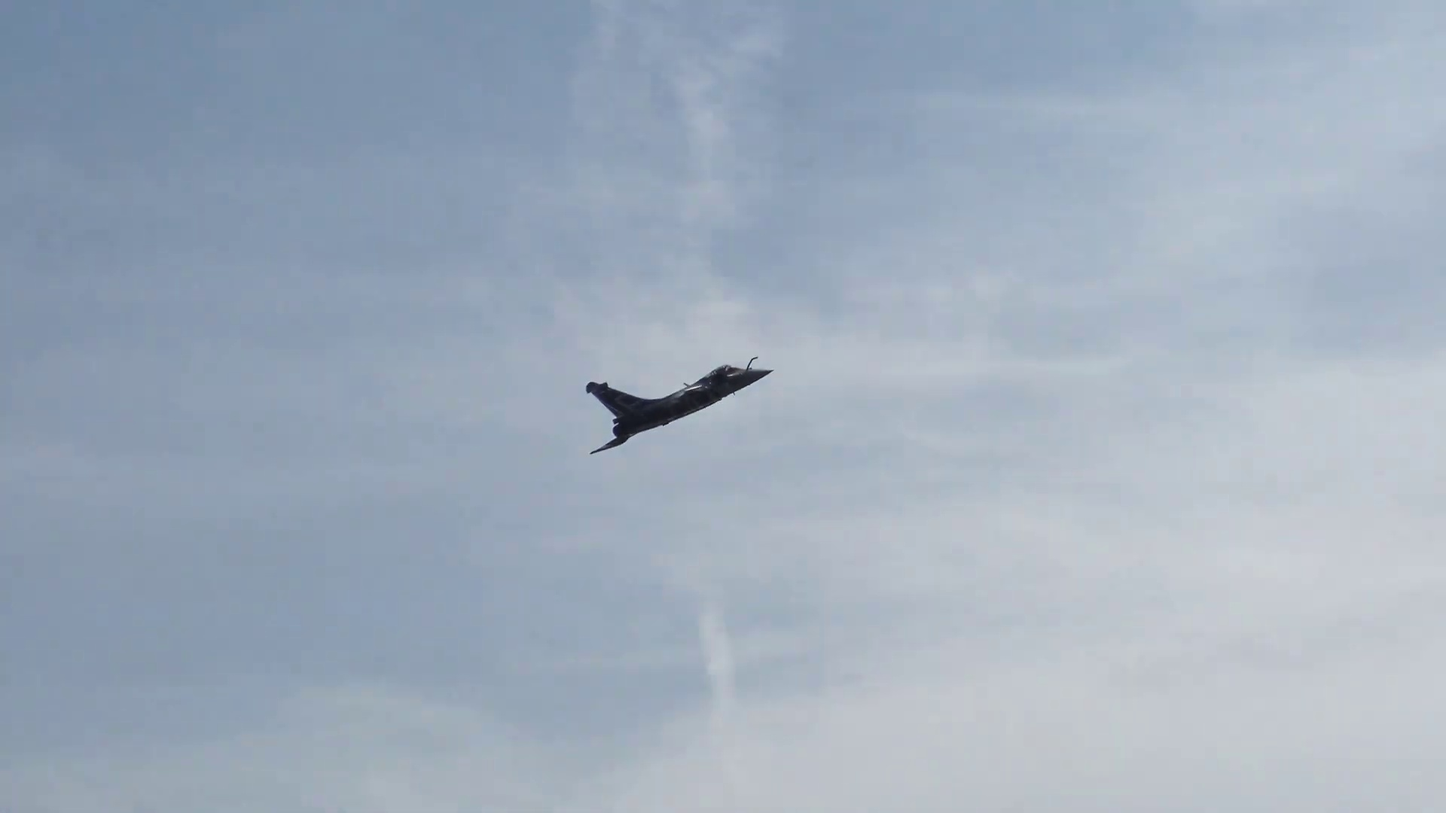Rafale: (580, 354, 779, 457)
